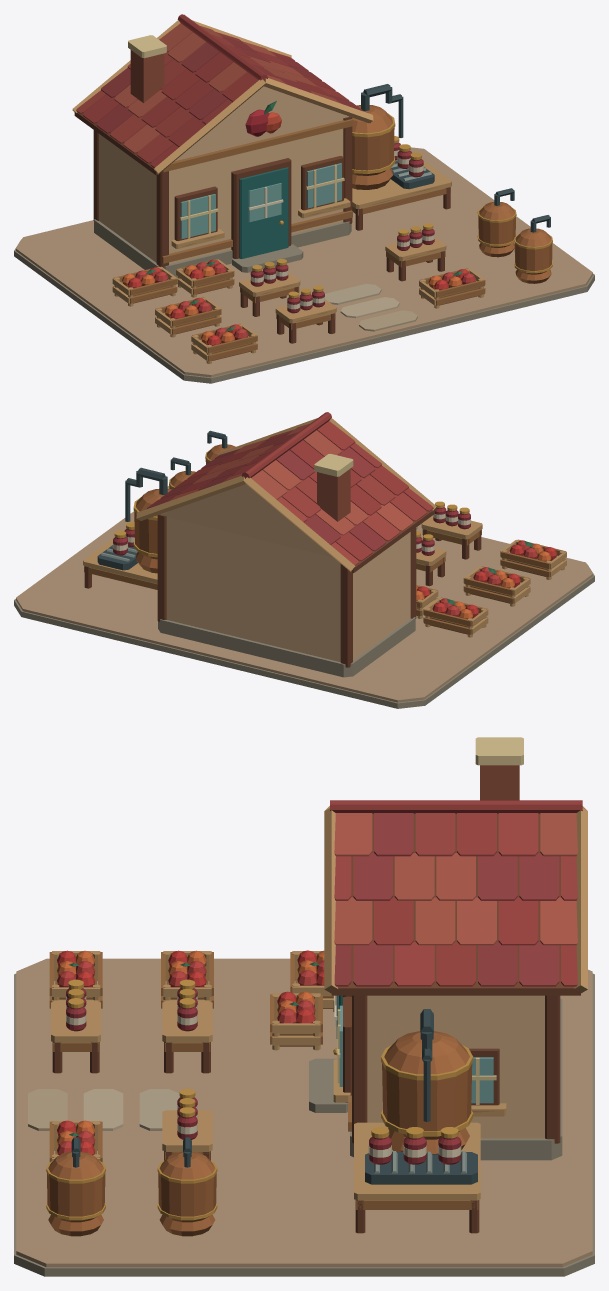
3 views of the same model, one above another, from view 1: azimuth 30°, elevation 25°; view 2: azimuth 150°, elevation 25°; view 3: azimuth 270°, elevation 25° (orthographic). The views are drawn at different scales.
Visible parts, largest first — view 1: Base, Staff06, Staff09, Staff08, Staff04, Staff05, Staff03, Staff07, Staff10; view 2: Base, Staff09, Staff03, Staff07, Staff05, Staff08, Staff04; view 3: Base, Staff04, Staff08, Staff05, Staff09, Staff06, Staff07, Staff03, Staff10.
Boxes of the visible parts, x1=… form: Base: x1=14, y1=14, x2=594, y2=383; Staff06: x1=385, y1=223, x2=446, y2=281; Staff09: x1=275, y1=285, x2=336, y2=343; Staff08: x1=514, y1=215, x2=552, y2=283; Staff04: x1=477, y1=188, x2=516, y2=257; Staff05: x1=239, y1=259, x2=300, y2=316; Staff03: x1=155, y1=297, x2=221, y2=337; Staff07: x1=191, y1=323, x2=257, y2=363; Staff10: x1=419, y1=268, x2=485, y2=308; Base: x1=14, y1=412, x2=594, y2=708; Staff09: x1=421, y1=501, x2=482, y2=559; Staff03: x1=463, y1=566, x2=530, y2=606; Staff07: x1=500, y1=539, x2=566, y2=579; Staff05: x1=416, y1=531, x2=446, y2=586; Staff08: x1=205, y1=430, x2=235, y2=464; Staff04: x1=169, y1=457, x2=195, y2=489; Base: x1=14, y1=737, x2=594, y2=1276; Staff04: x1=157, y1=1137, x2=217, y2=1236; Staff08: x1=46, y1=1137, x2=105, y2=1236; Staff05: x1=162, y1=979, x2=212, y2=1073; Staff09: x1=51, y1=979, x2=100, y2=1073; Staff06: x1=162, y1=1089, x2=212, y2=1160; Staff07: x1=49, y1=950, x2=102, y2=1008; Staff03: x1=161, y1=950, x2=213, y2=1008; Staff10: x1=49, y1=1120, x2=102, y2=1162.
Size of the model in its own units: 9 by 4.2 by 7.2.
